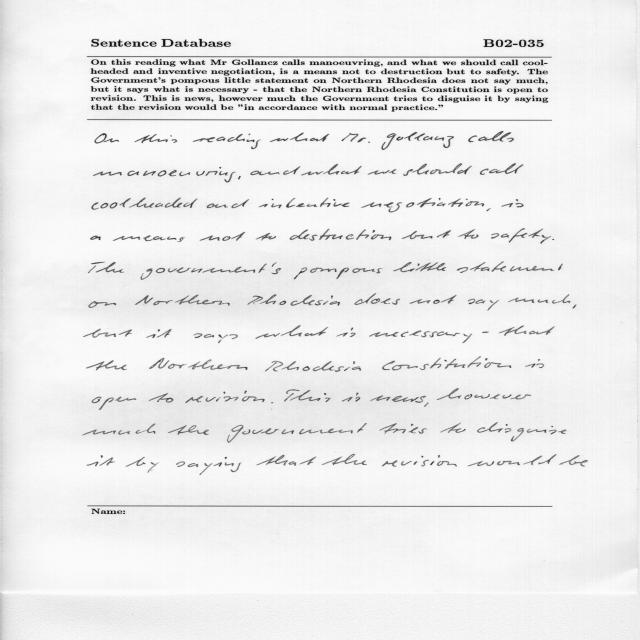word: (227, 423, 367, 443), (141, 262, 281, 280), (93, 167, 236, 182), (382, 357, 511, 371), (361, 198, 484, 212), (477, 423, 567, 442), (382, 132, 454, 150), (92, 198, 197, 210), (369, 331, 472, 343), (290, 229, 391, 241), (271, 390, 331, 410), (149, 358, 248, 370), (176, 457, 242, 475), (457, 262, 563, 273), (247, 294, 340, 306), (294, 268, 383, 280), (468, 454, 557, 466), (265, 361, 361, 372), (135, 295, 229, 306), (437, 389, 531, 400), (193, 134, 261, 149), (256, 325, 328, 339), (491, 228, 551, 244), (185, 391, 265, 403), (259, 198, 350, 208), (382, 455, 457, 467), (403, 163, 472, 176), (83, 424, 156, 435), (301, 164, 362, 176), (257, 455, 316, 466), (508, 294, 570, 304), (499, 325, 555, 336), (92, 397, 136, 410), (355, 293, 400, 305), (270, 133, 329, 142), (393, 262, 446, 272), (380, 423, 427, 434), (126, 457, 158, 473), (468, 131, 514, 142), (113, 235, 185, 242), (322, 454, 367, 465), (480, 164, 524, 175), (251, 167, 301, 176), (193, 333, 238, 343), (402, 230, 451, 239), (84, 329, 132, 338), (410, 295, 457, 304), (168, 425, 209, 435), (200, 232, 245, 241), (87, 361, 127, 371), (89, 262, 125, 273), (371, 396, 427, 403), (135, 134, 177, 143), (207, 199, 249, 208), (468, 299, 499, 311), (559, 455, 588, 467), (87, 456, 115, 467), (342, 133, 370, 143), (95, 133, 119, 144), (440, 423, 466, 433), (149, 393, 173, 403), (146, 329, 172, 338), (501, 199, 524, 208), (458, 229, 478, 239), (336, 328, 356, 338), (89, 301, 116, 308), (525, 359, 544, 368), (368, 169, 396, 175), (342, 393, 360, 402), (256, 233, 276, 240), (91, 236, 101, 240), (424, 402, 429, 407), (573, 304, 577, 309), (487, 208, 491, 211), (238, 176, 241, 179), (482, 332, 489, 333), (552, 239, 554, 240), (271, 403, 273, 404)
